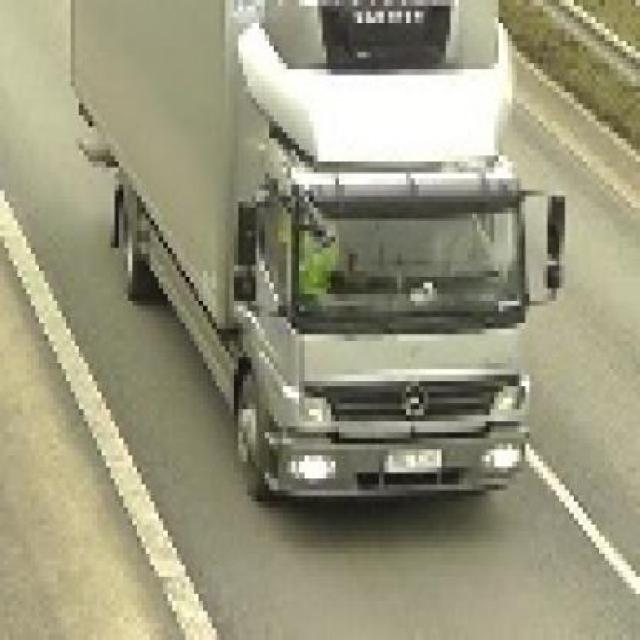truck: (76, 1, 567, 503)
